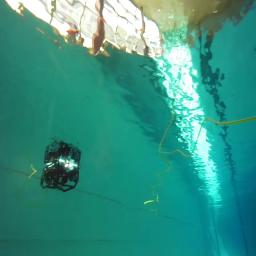front: (40, 159, 81, 193)
